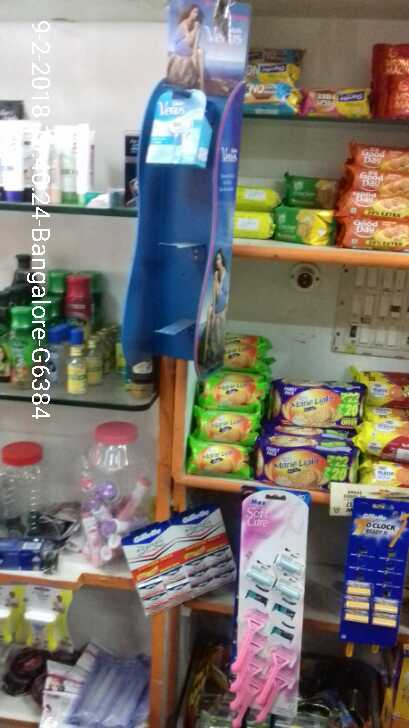venus: (138, 84, 216, 177)
